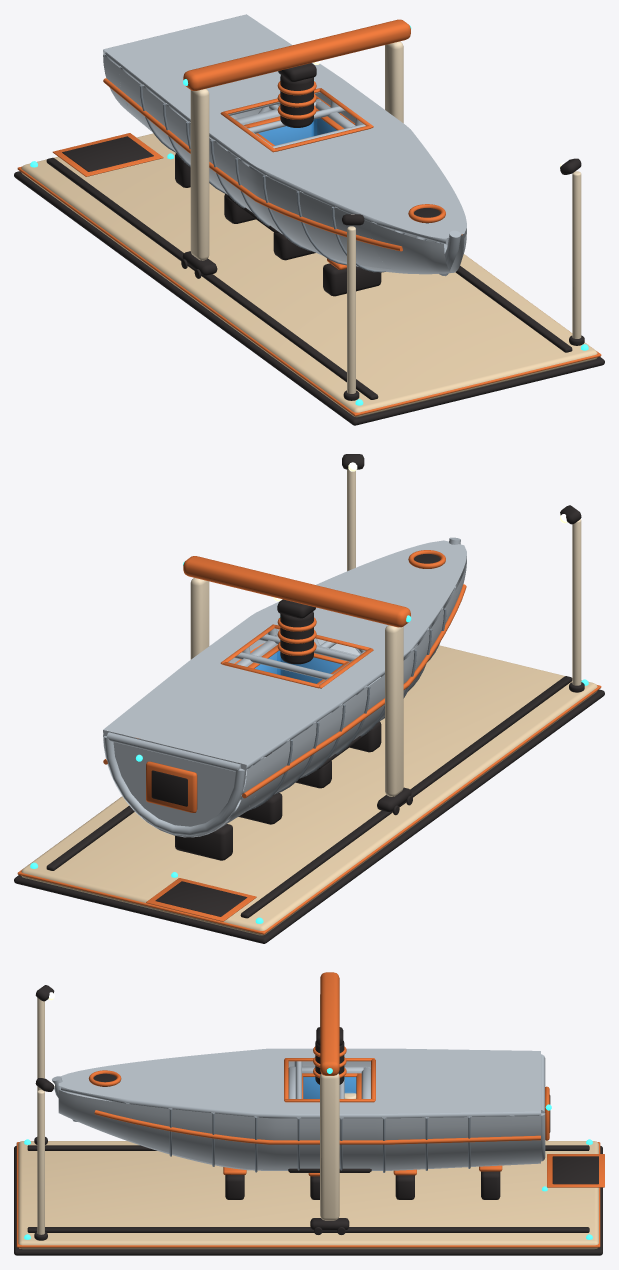
File: reactor-3.glb
3 renders of one model, top to bottom at view 1: azimuth 30°, elevation 25°; view 2: azimuth 150°, elevation 25°; view 3: azimuth 270°, elevation 25°, orthographic. The views are drawn at different scales.
Visible parts, largest first — view 1: Cube.001, skin, Cube, Cube.002, Cube.038, Cube.023, pipe.030, Cube.027; view 2: Cube.001, skin, Cube, Cube.002, Cube.038, Cube.023, pipe.030, Cube.027; view 3: Cube.001, skin, Cube, Cube.002, Cube.038, Cube.023, pipe.030, Cube.027.
Part boxes in pixels (x1,y1,x2,y2): Cube.001: [21, 133, 597, 417]; skin: [103, 14, 466, 274]; Cube: [14, 63, 604, 425]; Cube.002: [17, 19, 601, 416]; Cube.038: [190, 41, 581, 393]; Cube.023: [104, 52, 460, 276]; pipe.030: [139, 85, 427, 272]; Cube.027: [258, 118, 336, 145]; Cube.001: [21, 645, 597, 935]; skin: [103, 540, 466, 837]; Cube: [14, 454, 604, 943]; Cube.002: [17, 550, 601, 934]; Cube.038: [190, 469, 581, 796]; Cube.023: [104, 537, 460, 835]; pipe.030: [234, 608, 446, 810]; Cube.027: [254, 650, 342, 683]; Cube.001: [18, 1141, 598, 1249]; skin: [58, 1048, 540, 1170]; Cube: [14, 985, 602, 1255]; Cube.002: [16, 972, 604, 1247]; Cube.038: [37, 994, 356, 1234]; Cube.023: [52, 1054, 545, 1161]; pipe.030: [169, 1108, 470, 1172]; Cube.027: [303, 1077, 356, 1098].
Size of the model in its own units: 1.3 by 1.06 by 3.05.
